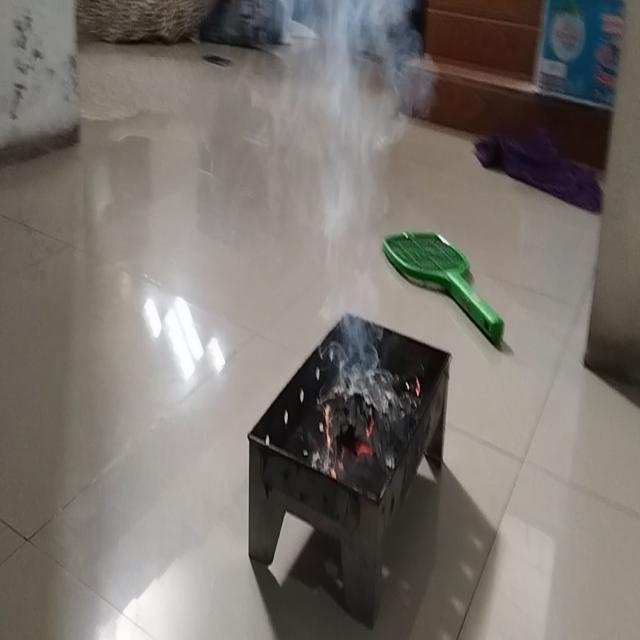fire: (284, 0, 418, 321)
